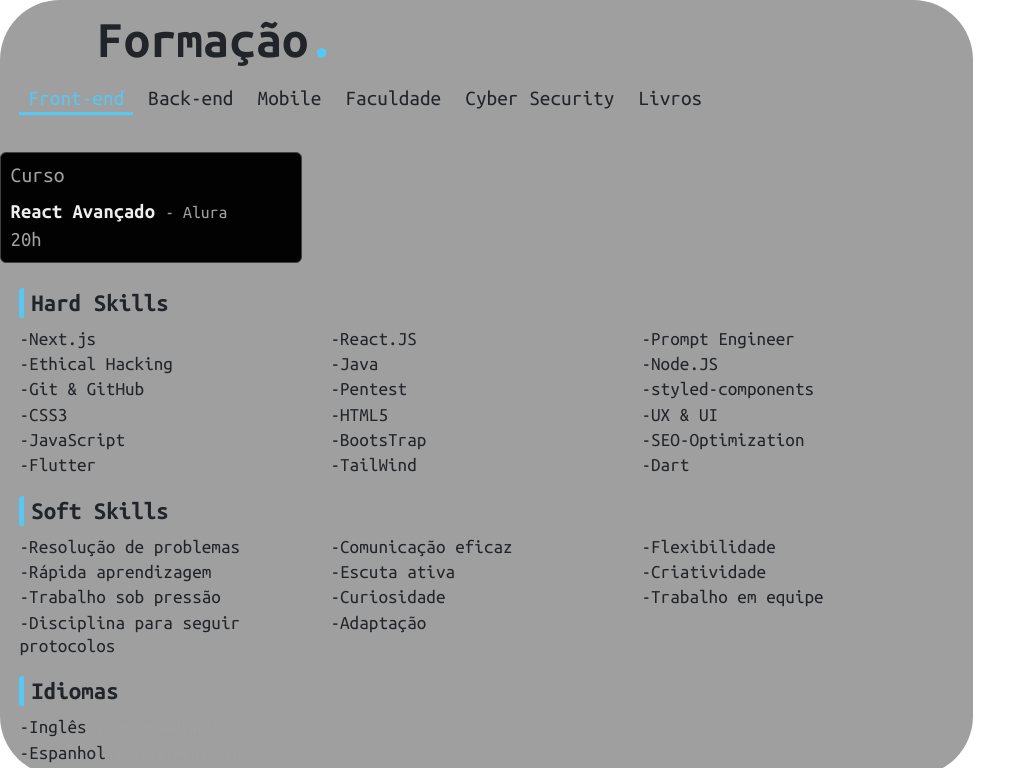
Scenario: Courses › click em Back-end filtra e exibe apenas cursos dessa categoria
The image size is (1024, 768).
Click the button "Back-end" at (191, 99), box left=139, top=86, right=242, bottom=112
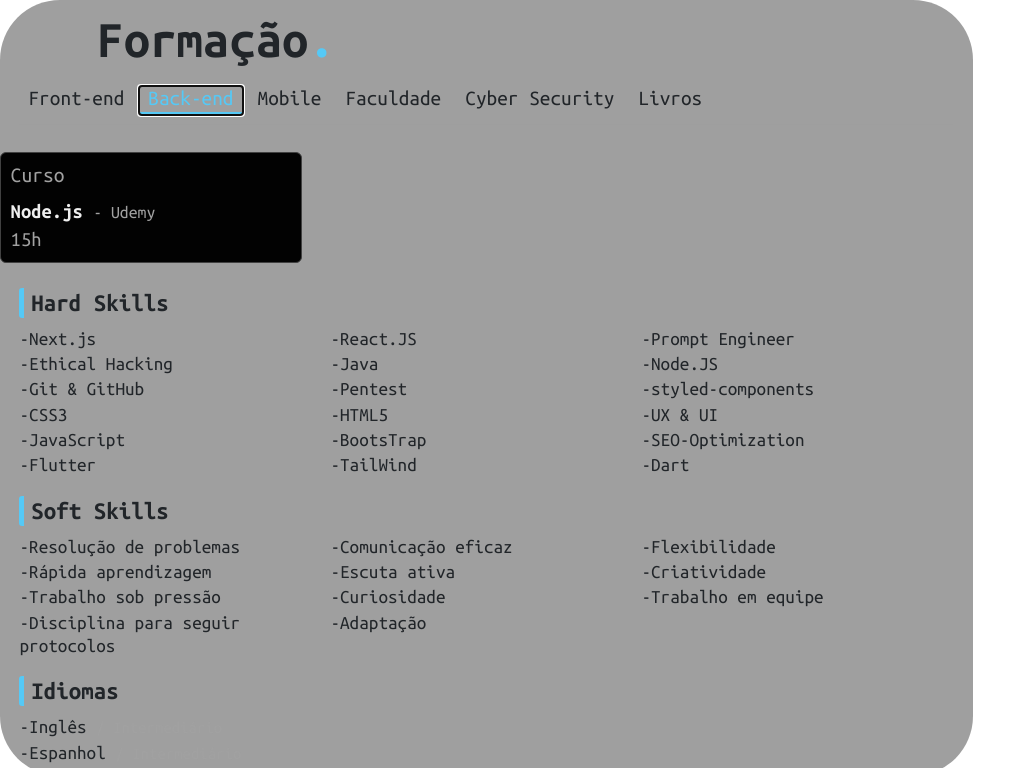
Check: the text "Node.js" is shown, box left=11, top=201, right=83, bottom=222
Check: the link "React Avançado" is gone
